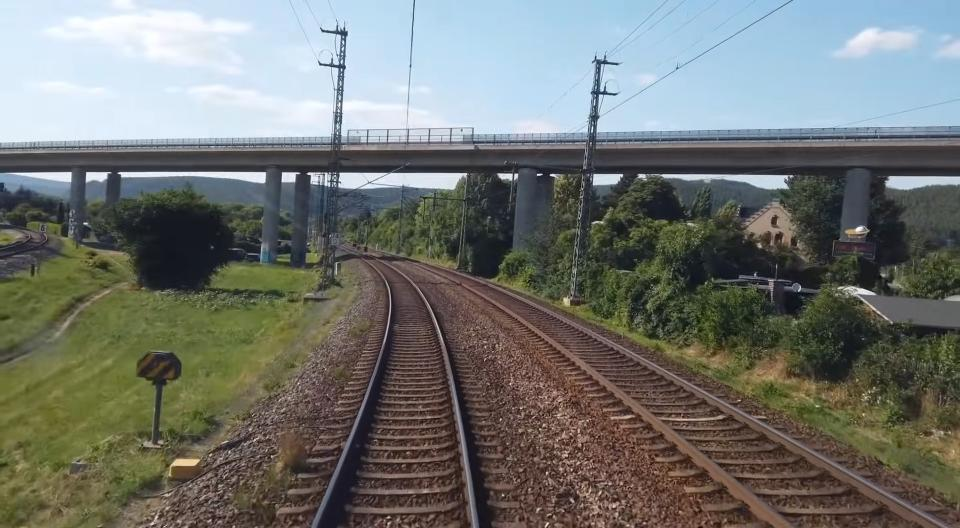Plant: (608, 322, 960, 503), (268, 428, 306, 490), (238, 492, 276, 526), (350, 320, 370, 338), (334, 365, 350, 381)
